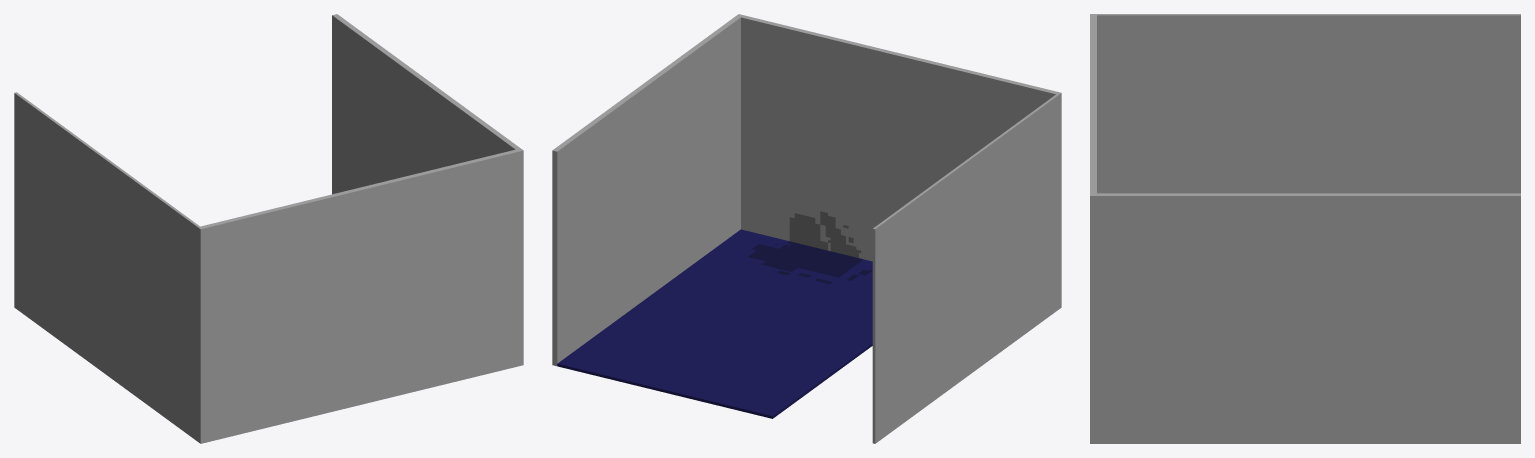
File: 4x2 third (des)-5.obj
The picture shows the model from 3 angles, left to right: view 1: azimuth 30°, elevation 25°; view 2: azimuth 150°, elevation 25°; view 3: azimuth 270°, elevation 25°; orthographic projection. The views are drawn at different scales.
Parts seen in each view (by area): view 1: 4x2 third (des)-5; view 2: 4x2 third (des)-5; view 3: 4x2 third (des)-5.
Boxes of the visible parts, bbox=[...] form: 4x2 third (des)-5: bbox=[14, 14, 523, 443]; 4x2 third (des)-5: bbox=[552, 14, 1061, 443]; 4x2 third (des)-5: bbox=[1090, 14, 1520, 443].
Size of the model in its own units: 126 by 80 by 126.
1 material, 1 textured.
